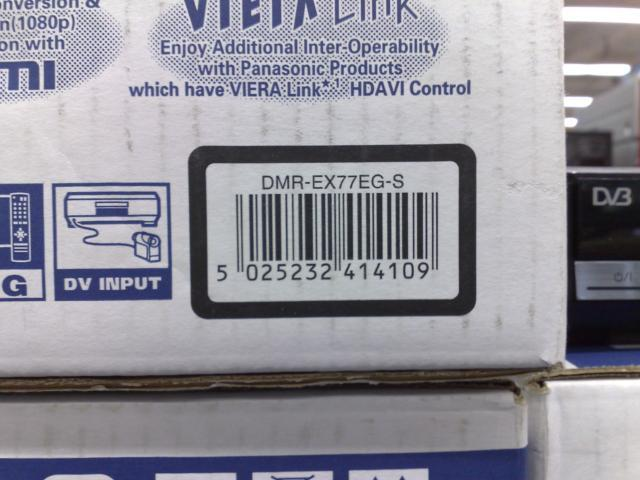Barcode: (208, 164, 460, 297)
